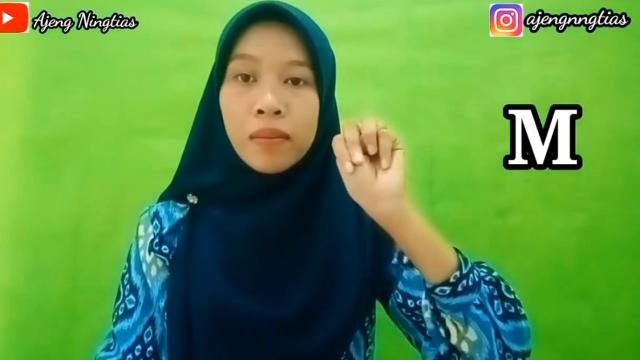M: (332, 116, 406, 214)
